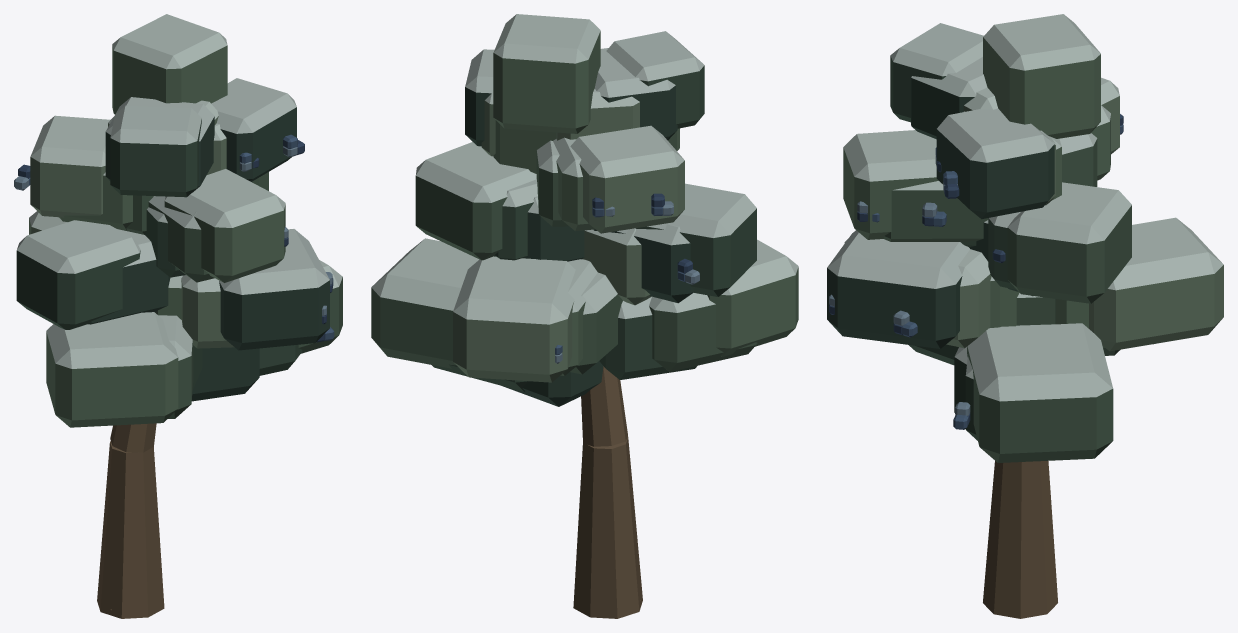
The model's file is juniper_ancient_winter.glb.
3 views of the same model, side by side, from view 1: azimuth 30°, elevation 25°; view 2: azimuth 150°, elevation 25°; view 3: azimuth 270°, elevation 25° (orthographic). The views are drawn at different scales.
Parts seen in each view (by area): view 1: juniper_ancient_winter; view 2: juniper_ancient_winter; view 3: juniper_ancient_winter.
Part boxes in pixels (bbox=[...]): juniper_ancient_winter: bbox=[14, 14, 342, 618]; juniper_ancient_winter: bbox=[371, 14, 798, 618]; juniper_ancient_winter: bbox=[827, 14, 1223, 618].
Size of the model in its own units: 10.07 by 16 by 9.68.
